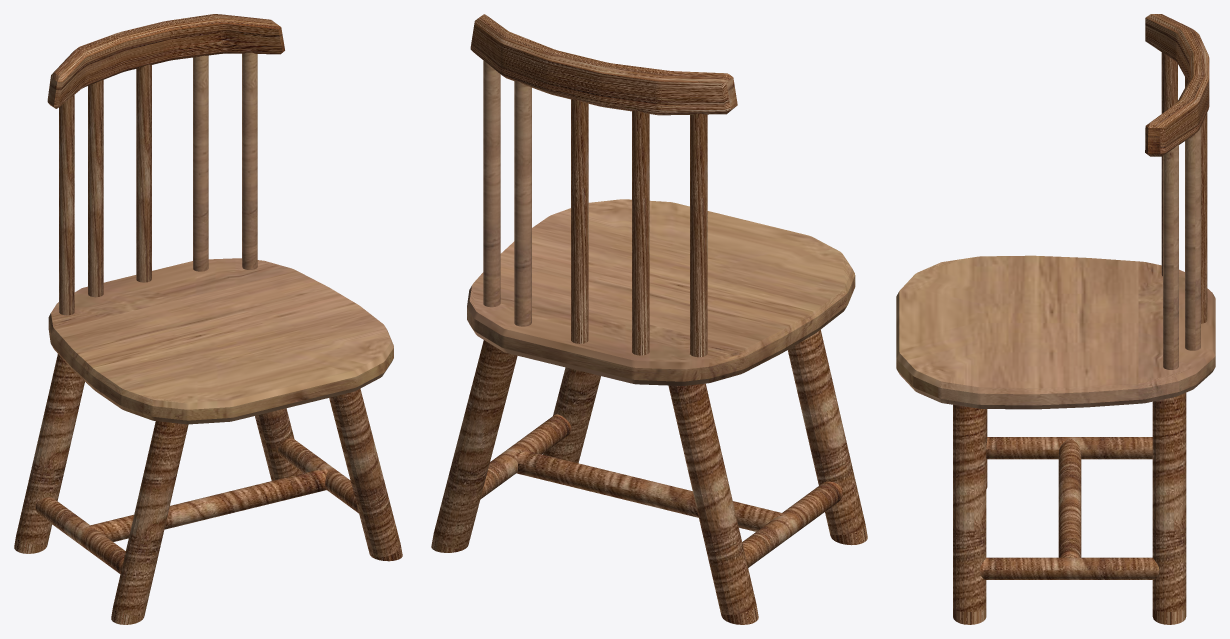
Rendered from CadeiraMadeiraRE1.fbx.
3 views of the same model, side by side, from view 1: azimuth 30°, elevation 25°; view 2: azimuth 150°, elevation 25°; view 3: azimuth 270°, elevation 25° (orthographic). The views are drawn at different scales.
Visible parts, largest first — view 1: pCube1, pCube2, pCylinder2, pCylinder8, pCylinder10, pCylinder12, pCylinder14, pCylinder17, pCylinder15, pCylinder16, pCylinder13, pCylinder5 (+2 smaller); view 2: pCube1, pCube2, pCylinder8, pCylinder9, pCylinder2, pCylinder12, pCylinder16, pCylinder13, pCylinder15, pCylinder17, pCylinder14, pCylinder5 (+2 smaller); view 3: pCube1, pCylinder9, pCylinder10, pCube2, pCylinder11, pCylinder14, pCylinder5, pCylinder15, pCylinder12, pCylinder17, pCylinder13.
Boxes of the visible parts, box(x1,y1,x2,y2) form: pCube1: box(48, 258, 393, 424); pCube2: box(47, 14, 284, 108); pCylinder2: box(111, 421, 188, 624); pCylinder8: box(14, 354, 84, 553); pCylinder10: box(329, 388, 402, 561); pCylinder12: box(86, 468, 327, 541); pCylinder14: box(242, 52, 257, 269); pCylinder17: box(136, 64, 151, 282); pCylinder15: box(193, 55, 208, 271); pCylinder16: box(88, 80, 103, 297); pCylinder13: box(59, 65, 74, 315); pCylinder5: box(35, 497, 125, 573); pCube1: box(467, 199, 855, 385); pCube2: box(470, 14, 737, 115); pCylinder8: box(668, 383, 758, 624); pCylinder9: box(431, 340, 517, 552); pCylinder2: box(787, 329, 867, 545); pCylinder12: box(515, 449, 786, 531); pCylinder16: box(632, 110, 649, 355); pCylinder13: box(690, 81, 707, 357); pCylinder15: box(514, 80, 531, 326); pCylinder17: box(571, 99, 588, 343); pCylinder14: box(483, 60, 500, 307); pCylinder5: box(742, 481, 843, 567); pCube1: box(896, 255, 1215, 409); pCylinder9: box(1152, 393, 1186, 624); pCylinder10: box(953, 405, 986, 624); pCube2: box(1145, 14, 1209, 156); pCylinder11: box(979, 557, 1159, 579); pCylinder14: box(1163, 145, 1178, 369); pCylinder5: box(986, 437, 1152, 459); pCylinder15: box(1185, 127, 1200, 350); pCylinder12: box(1058, 437, 1081, 557); pCylinder17: box(1201, 113, 1207, 323); pCylinder13: box(1161, 52, 1177, 276).
Size of the model in its own units: 2.77 by 4.39 by 2.6.
Materials: 2 (2 with a texture image).
